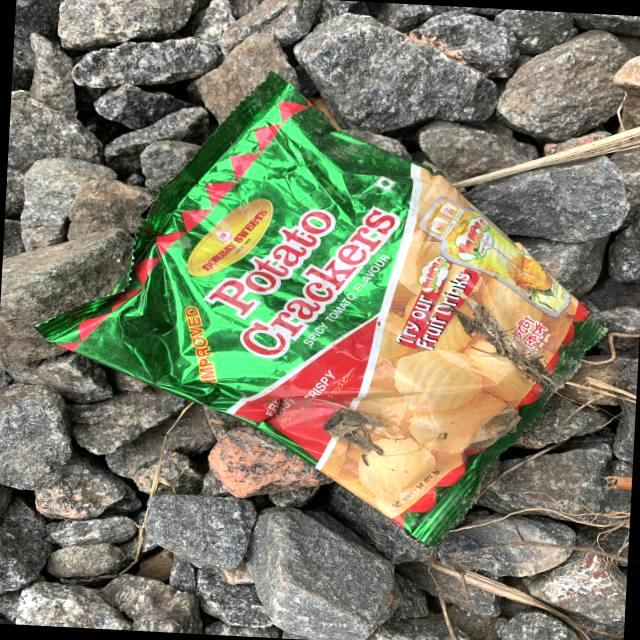packet: (89, 133, 602, 479)
